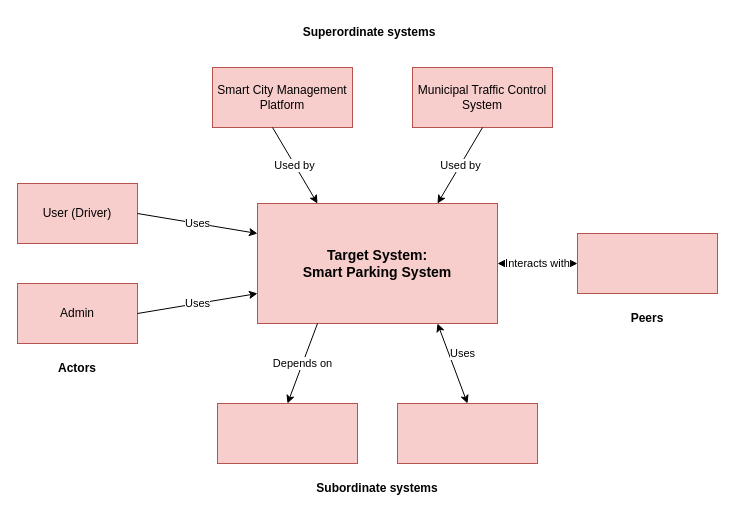
This 735x520 diagram has some shape labels left out. The shapes that lost their labels are listed below. From the top down, each one's centre as x and y in pixels, then its label:
At (x=647, y=263): "Payment Gateway".
At (x=287, y=433): "Database System (MySQL)".
At (x=467, y=433): "Parking Sensors (Simulated/Real)".
